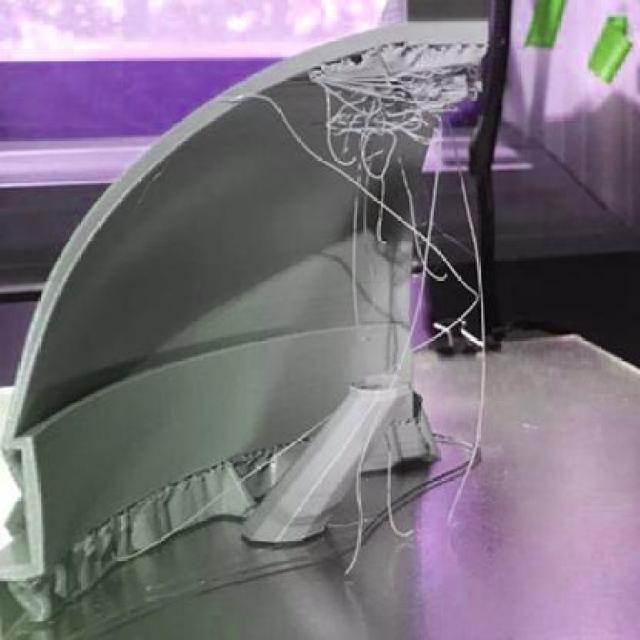Spaghetti: (310, 63, 487, 577)
